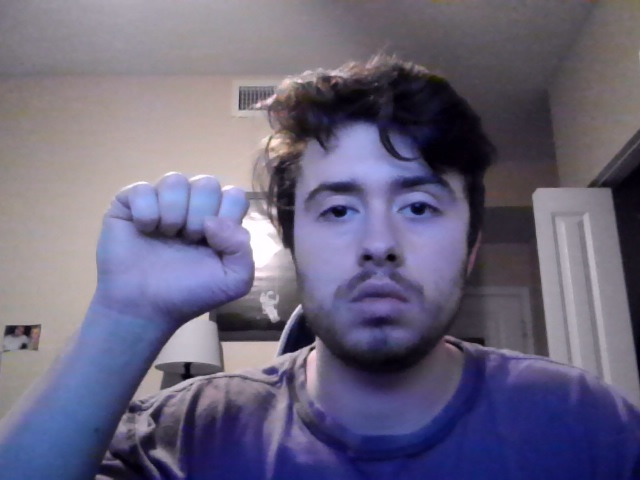e: (95, 170, 256, 331)
